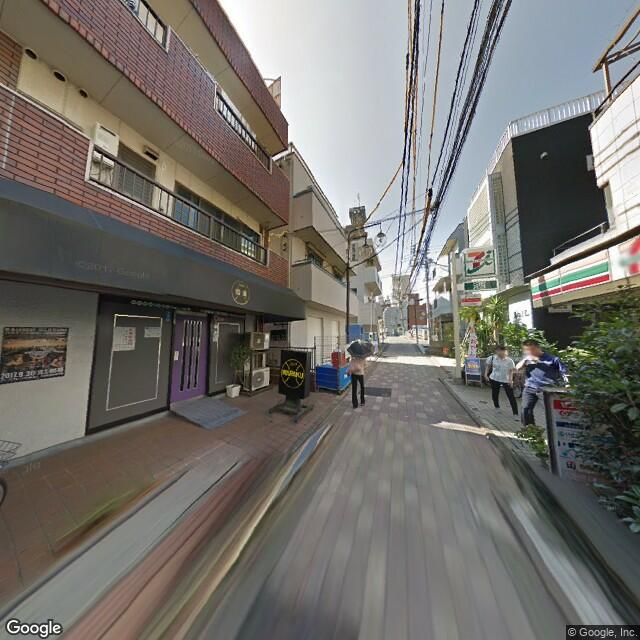7-eleven: (529, 229, 637, 302), (459, 241, 497, 277)
